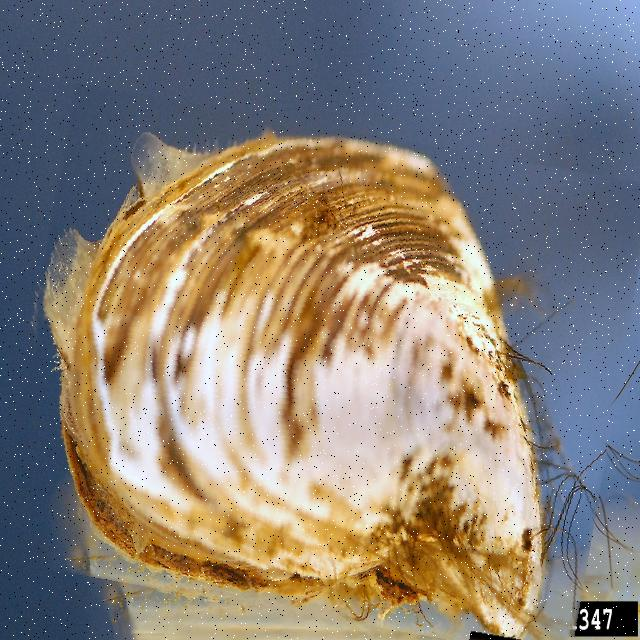Dreissena_bugensis: (10, 107, 634, 638)
